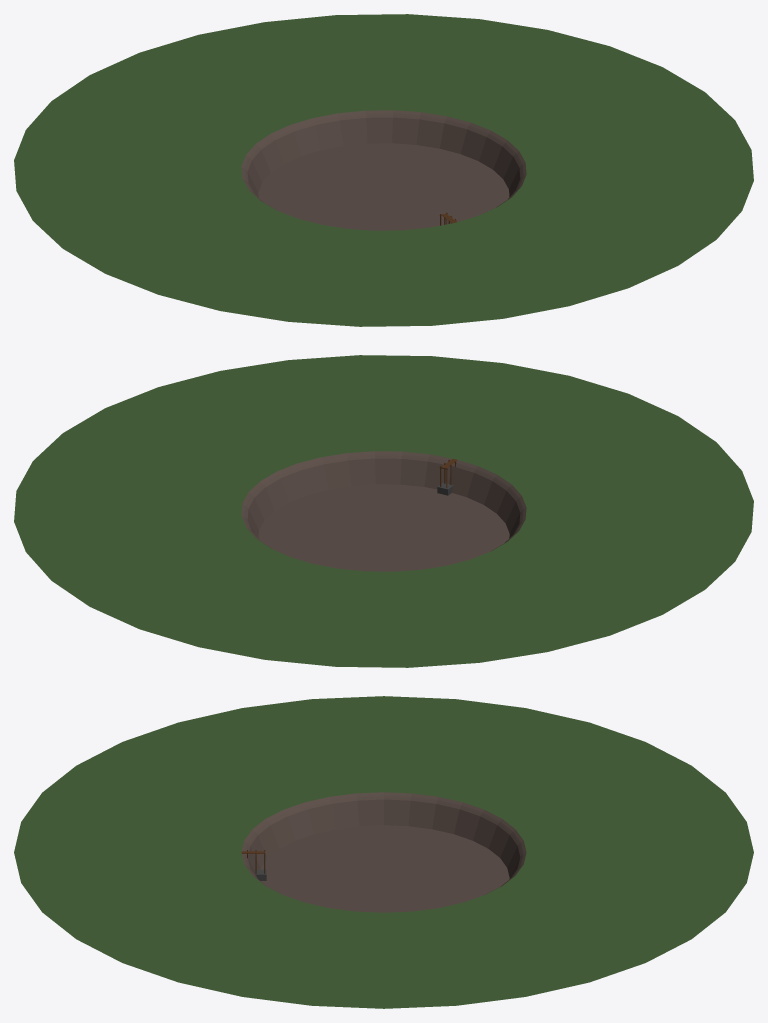
The model's file is environment.glb.
3 views of the same model, one above another, from view 1: azimuth 30°, elevation 25°; view 2: azimuth 150°, elevation 25°; view 3: azimuth 270°, elevation 25° (orthographic).
Visible parts, largest first — view 1: Ground, Pond; view 2: Ground, Pond; view 3: Ground, Pond.
Part boxes in pixels (bbox=[...]): Ground: bbox=[14, 14, 753, 326]; Pond: bbox=[241, 110, 526, 230]; Ground: bbox=[14, 355, 753, 667]; Pond: bbox=[241, 451, 526, 571]; Ground: bbox=[14, 696, 753, 1008]; Pond: bbox=[242, 792, 526, 912].
Bounding box in the file's own units: 342 × 16.26 × 342.
